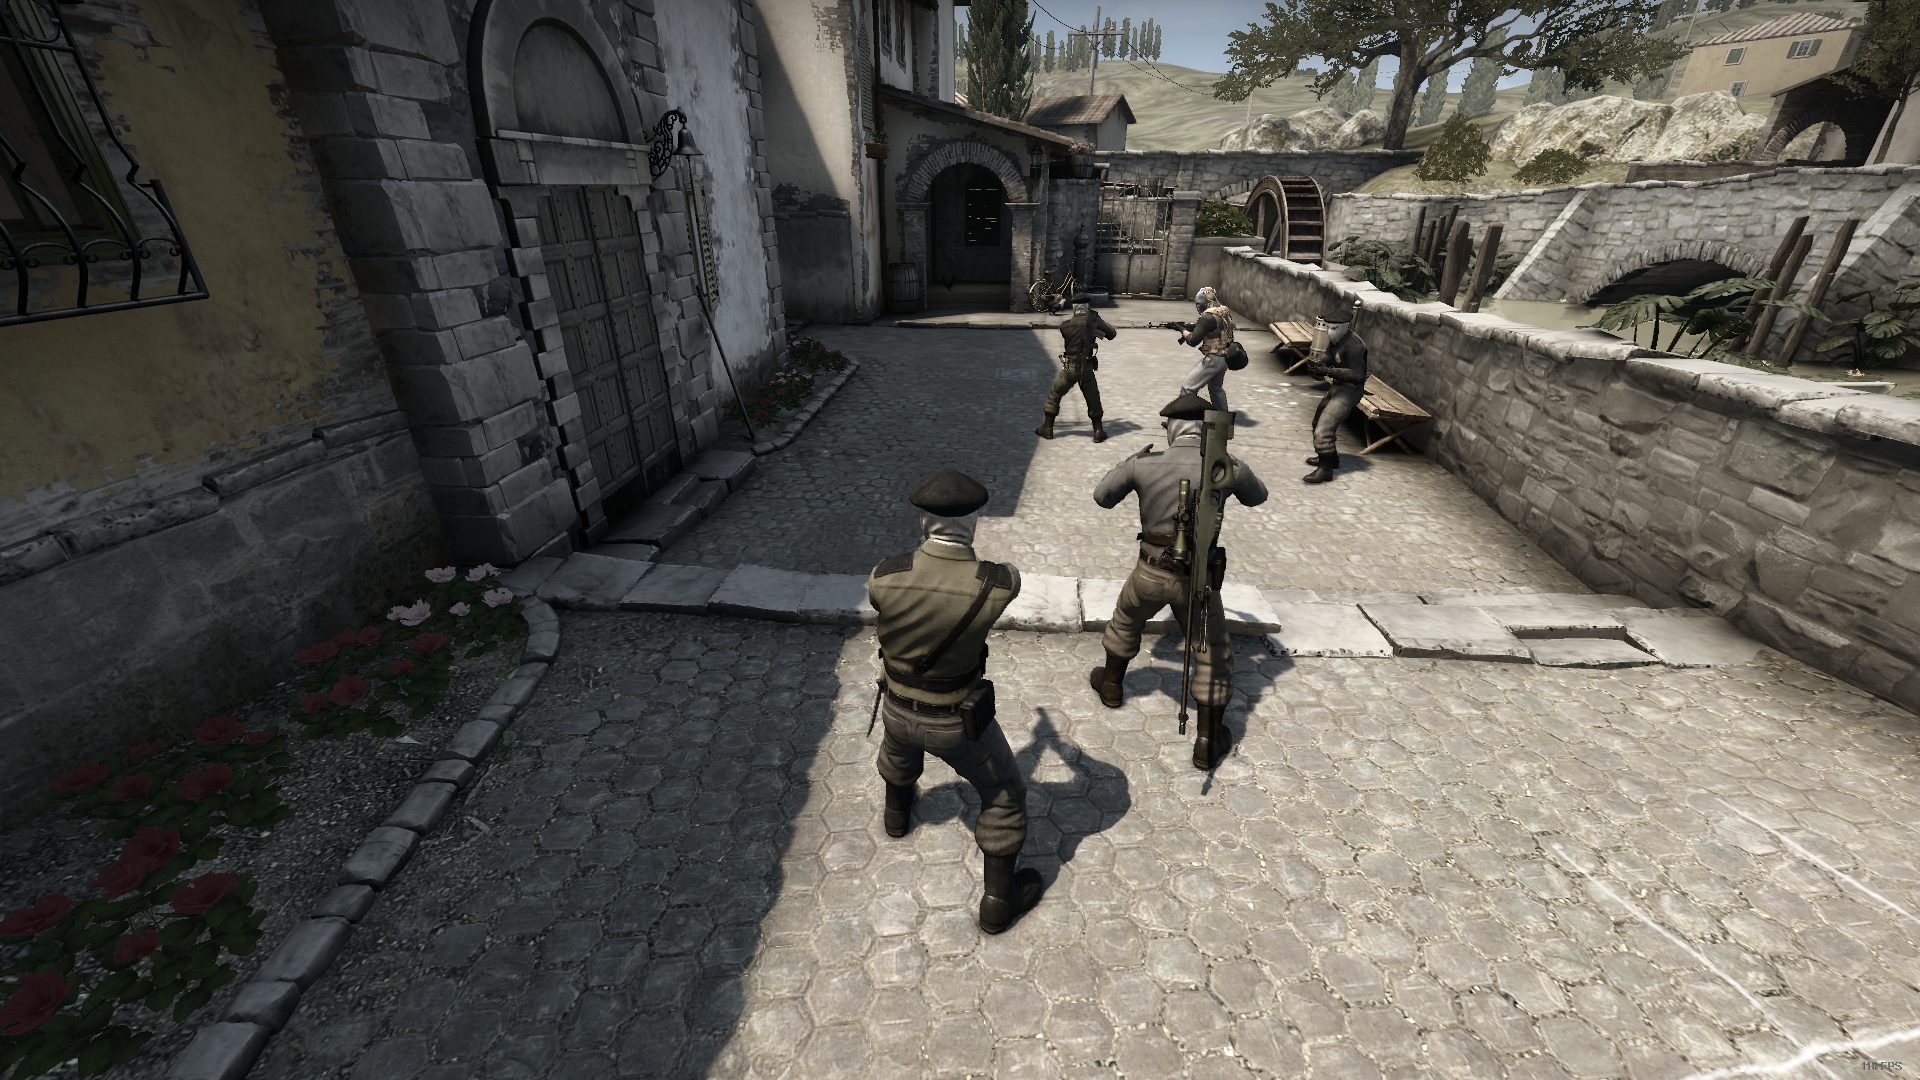t: (870, 469, 1046, 935), (1092, 392, 1270, 770), (1034, 293, 1117, 442), (1309, 311, 1367, 484)
